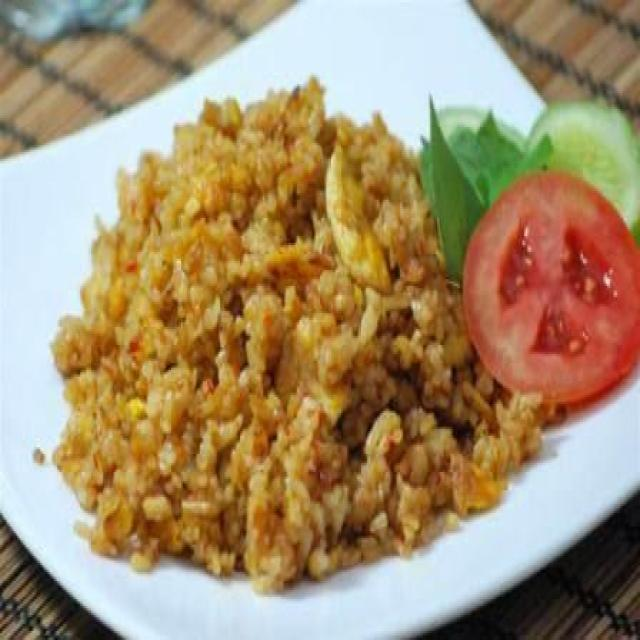Nasi Goreng: (65, 109, 528, 547)
